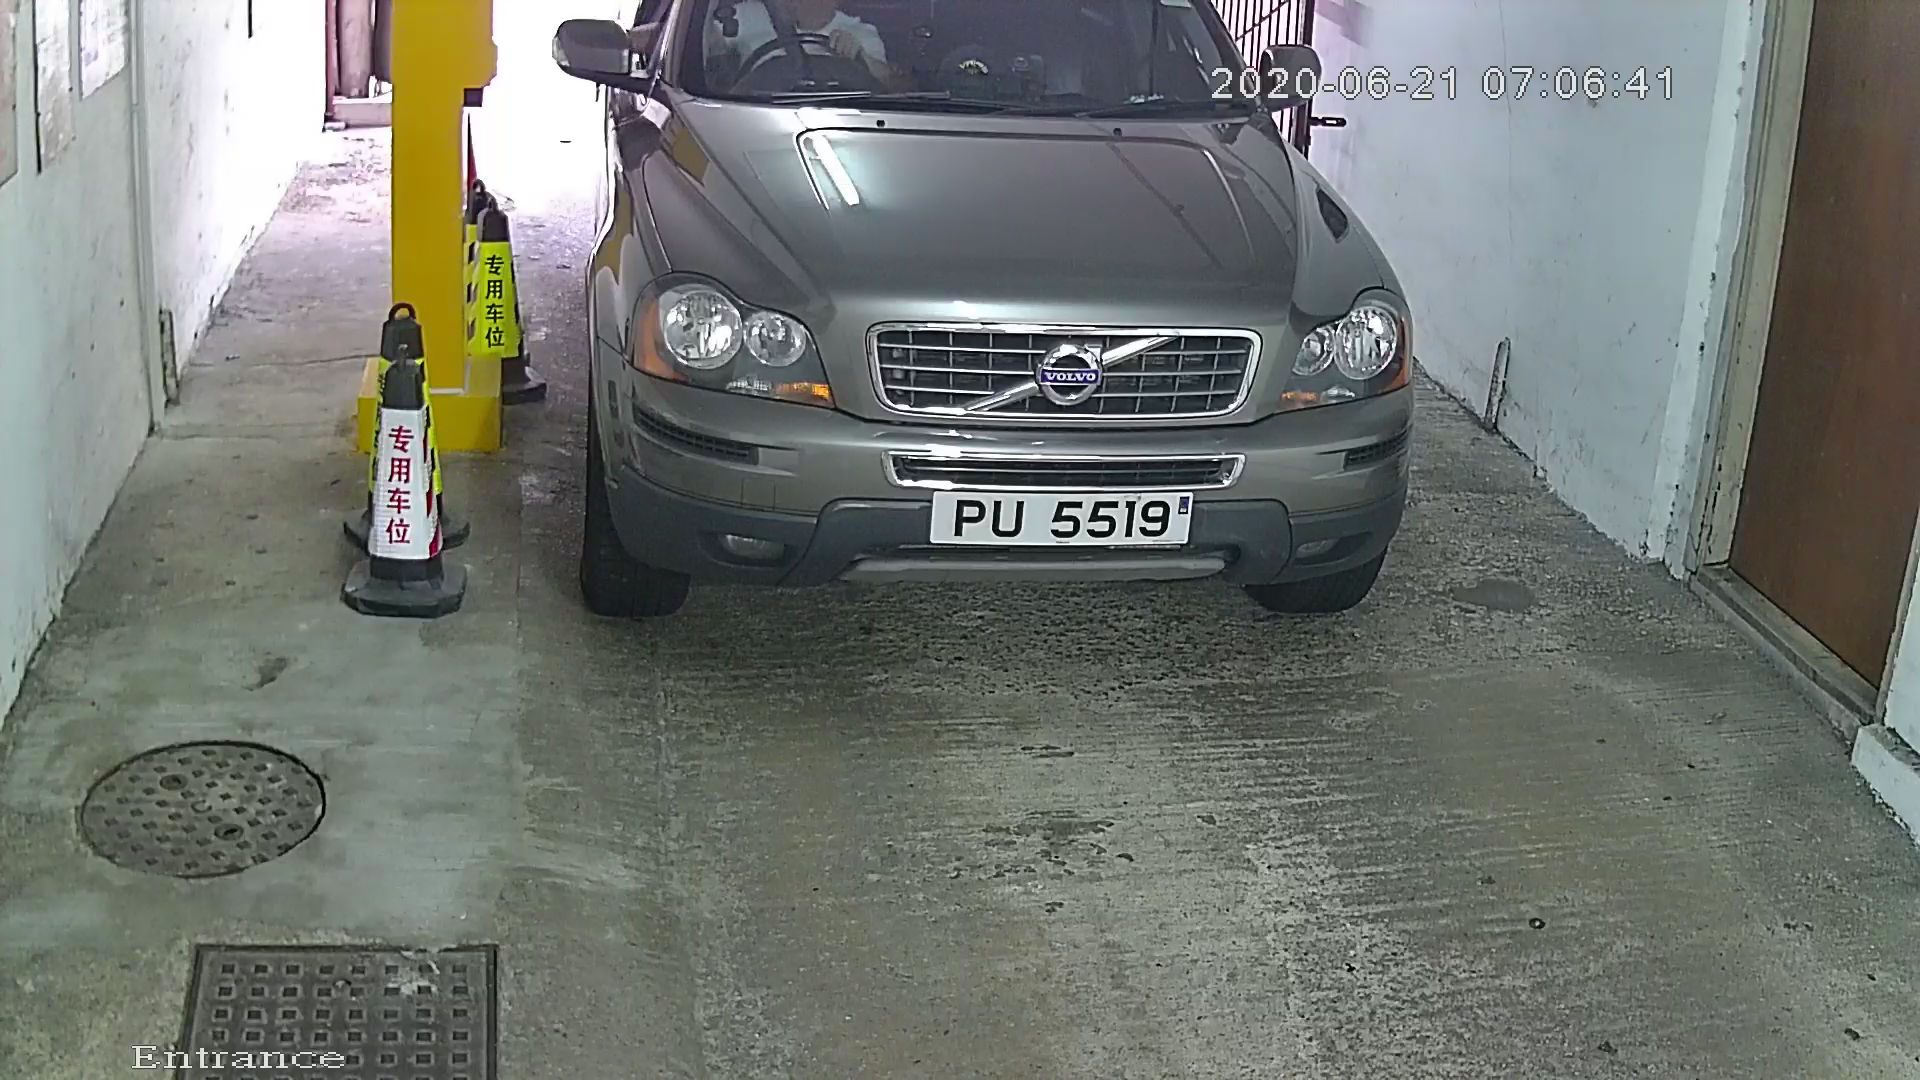privatecar: (543, 3, 1457, 655)
